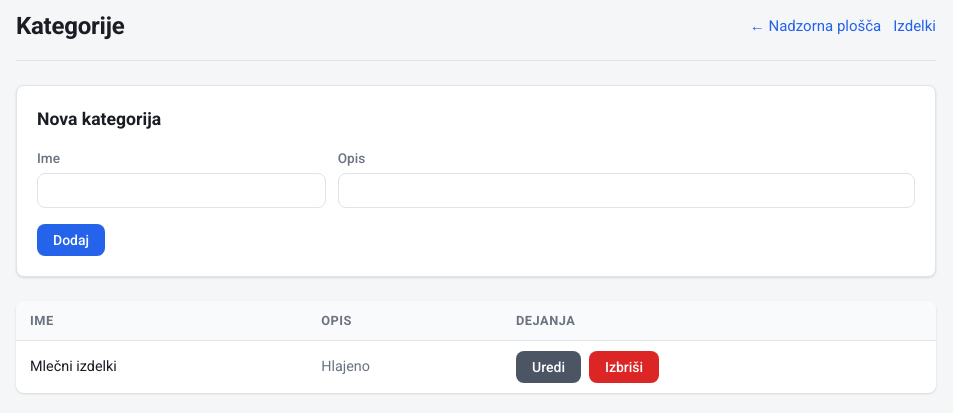
Scenario: CategoriesPage › edits a category with PUT
The image size is (953, 413).
Click the button "Uredi" at (548, 367), box [516,351,581,383]
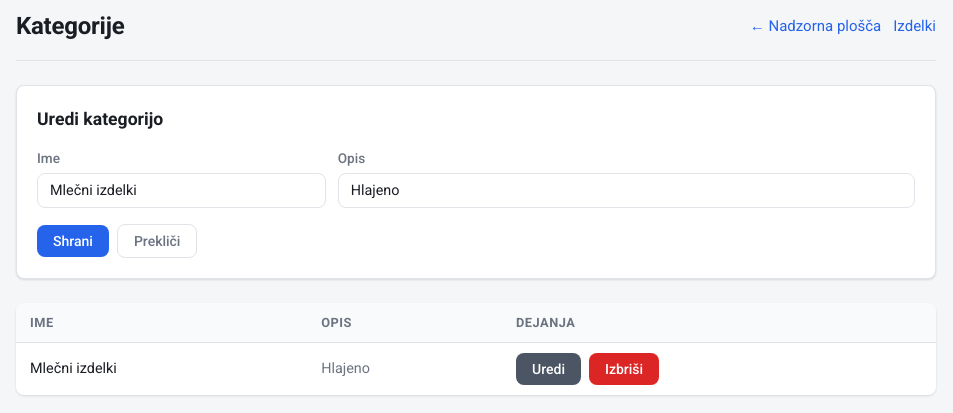
Now the field labelled "Ime" holds "Mlečni izdelki"
Replace the text in the field labelled "Ime" with "Mleko" at (181, 190), box [37,173,326,208]
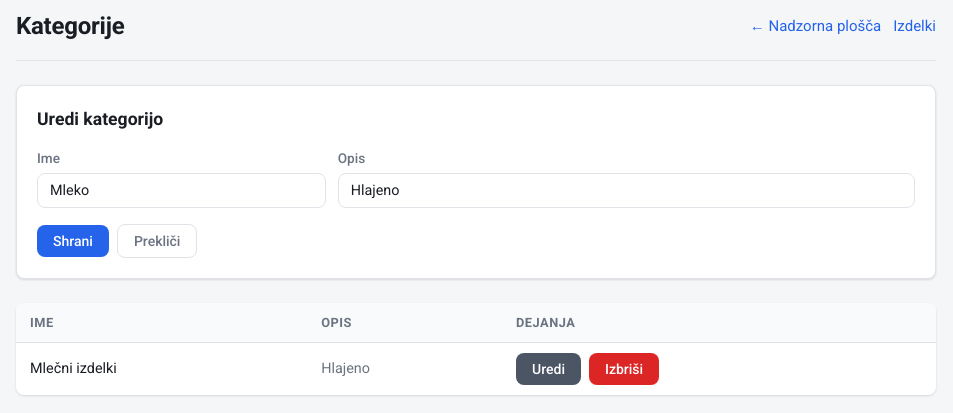
Click the button "Shrani" at (73, 241), box [37,225,109,257]
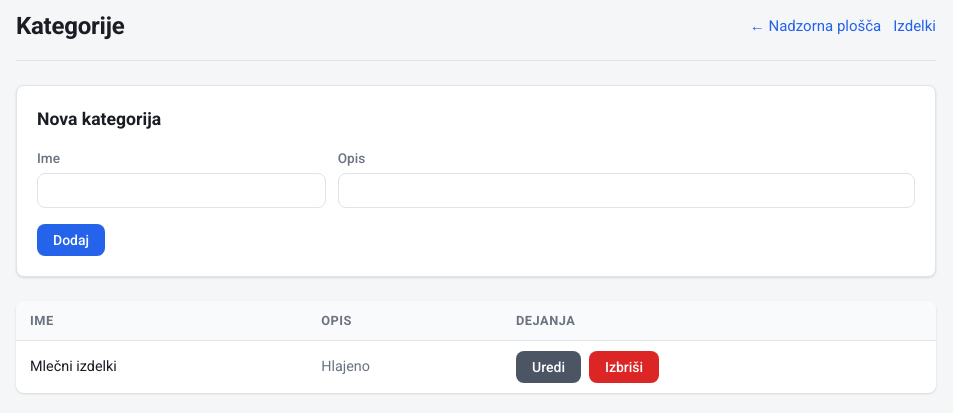
Now the heading "Nova kategorija" is shown, box [37,109,161,129]
